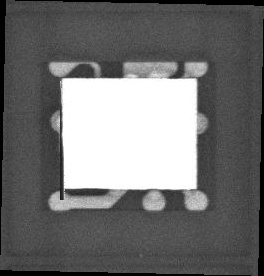DIE_BROKEN: (57, 101, 66, 202)
